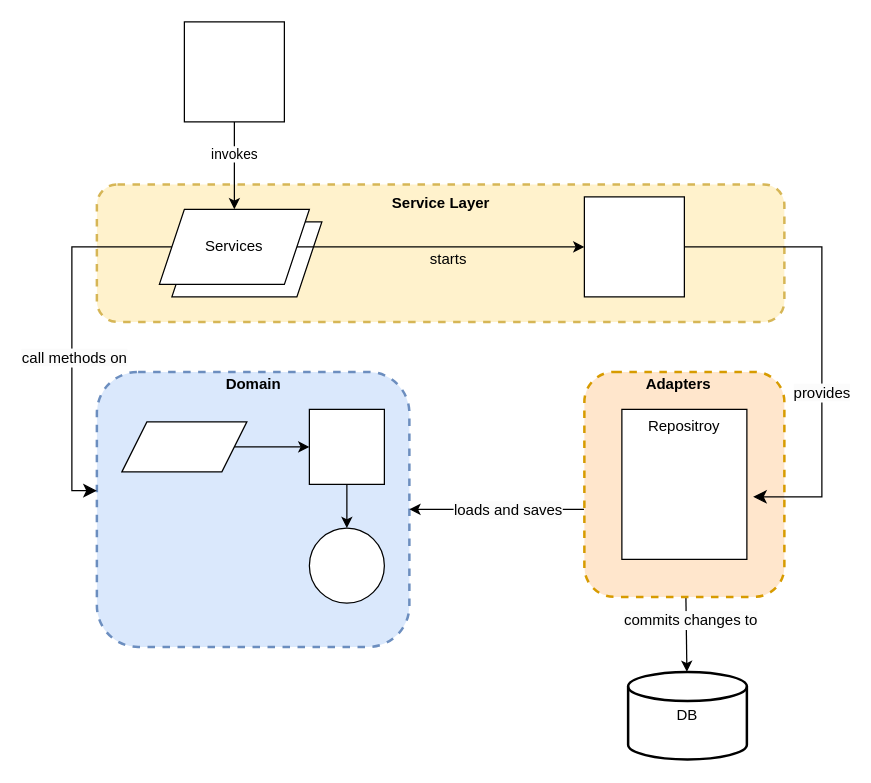
Image size: 871x783. Some labels were removed from this diagram. The box of each missing label's shape, as (x1, y1, x2, y2) in pixels:
Flask: (183, 21, 284, 122)
Unit of Work: (583, 196, 684, 297)
